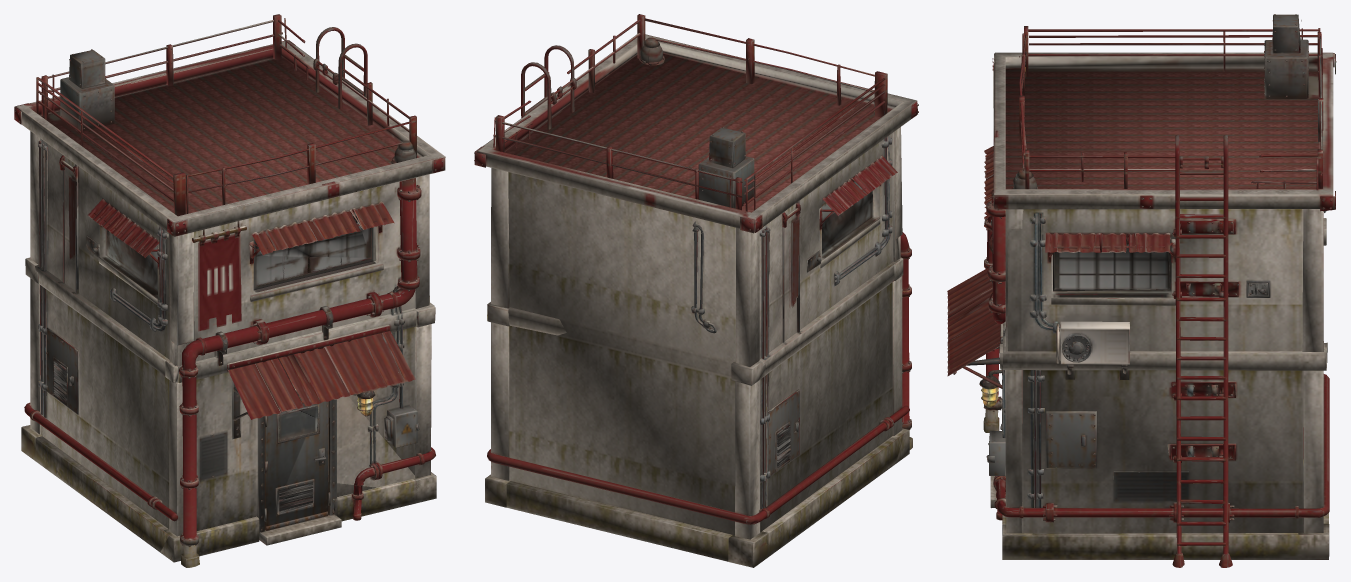
File: modelo.glb
3 renders of one model, left to right at view 1: azimuth 30°, elevation 25°; view 2: azimuth 150°, elevation 25°; view 3: azimuth 270°, elevation 25°, orthographic. The views are drawn at different scales.
Bounding box in the file's own units: 0.7271 × 0.9521 × 0.7842.
Materials: 1 (1 with a texture image).
